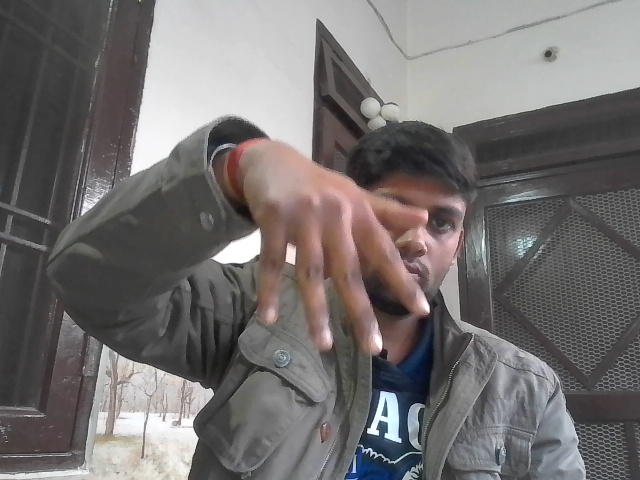HowAreYou: (227, 124, 440, 384)
